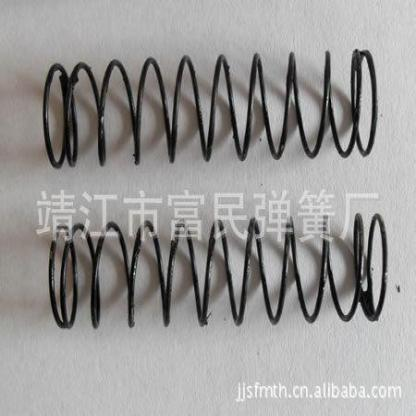FOD: (41, 43, 379, 174), (44, 210, 390, 330)
